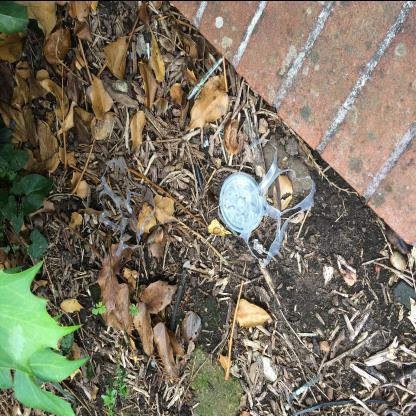plastik: (219, 139, 317, 271), (100, 155, 157, 258), (220, 172, 265, 234)
